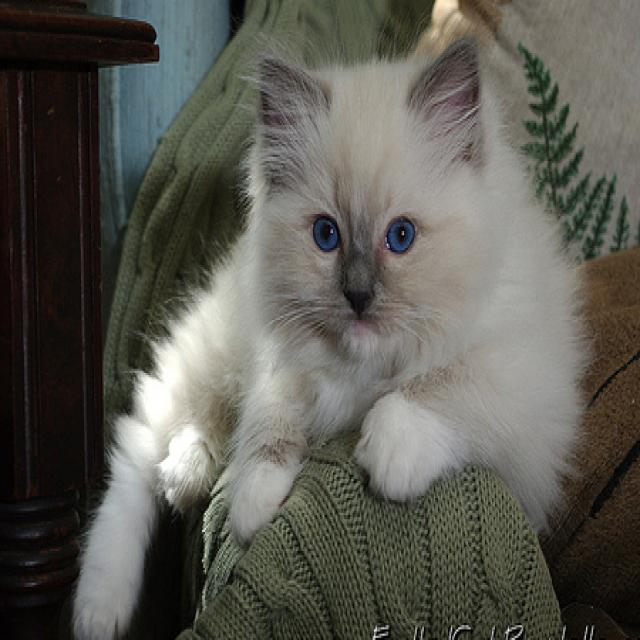Ragdoll: (68, 25, 593, 640)
